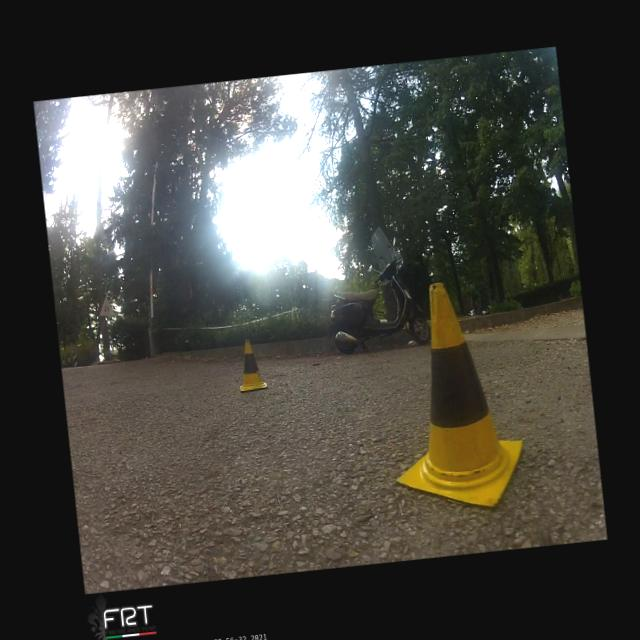yellow_cone: (376, 275, 528, 517), (234, 337, 268, 391)
